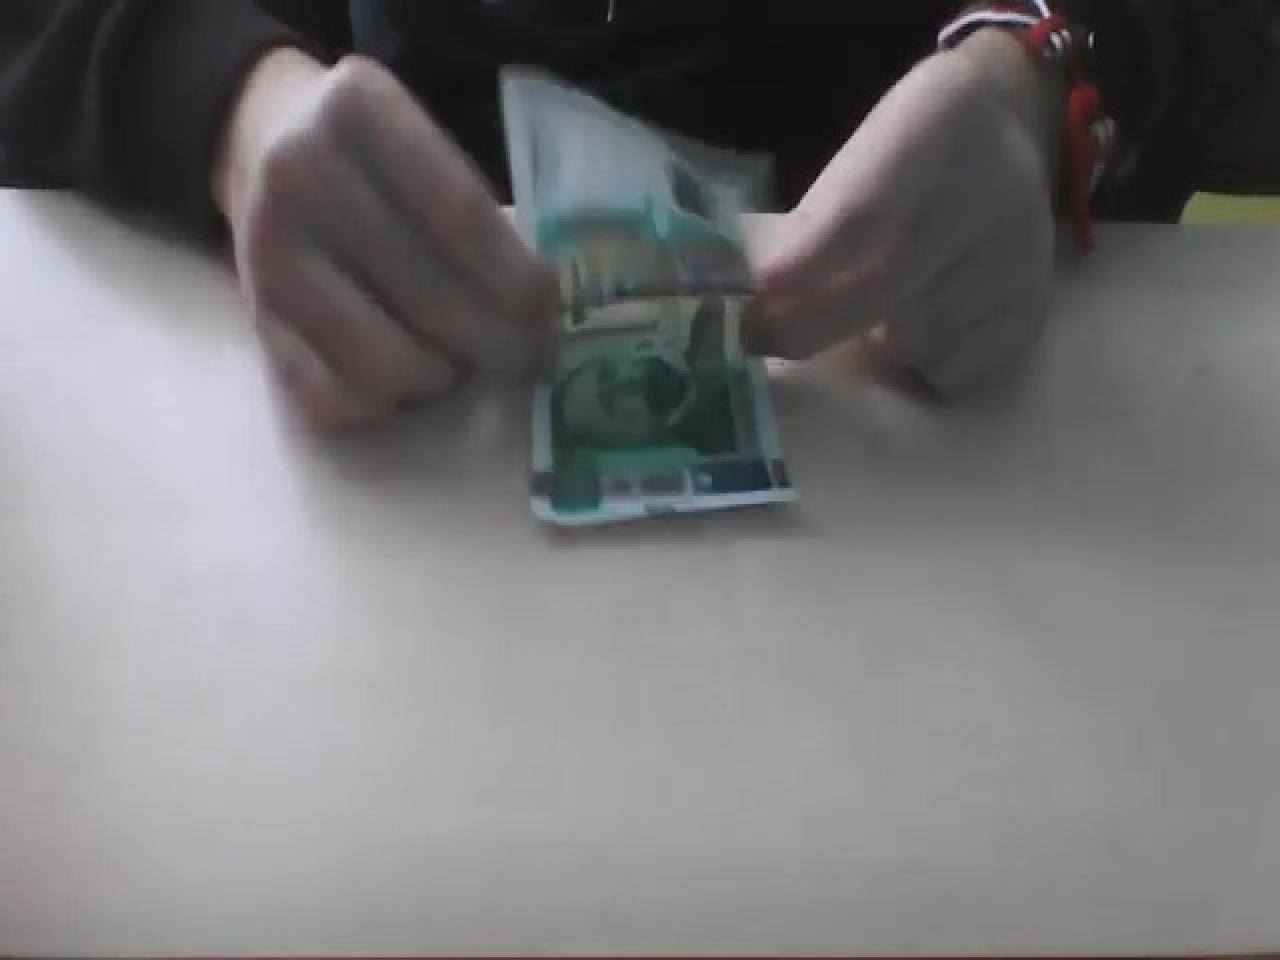100leva: (500, 67, 798, 533)
